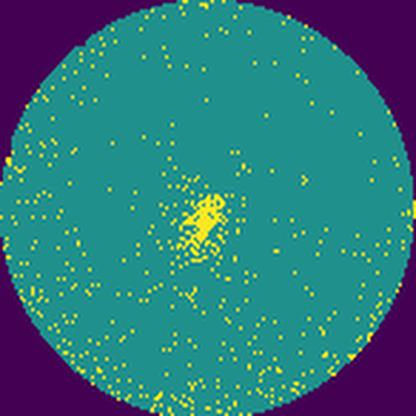Center: (177, 193, 231, 253)
